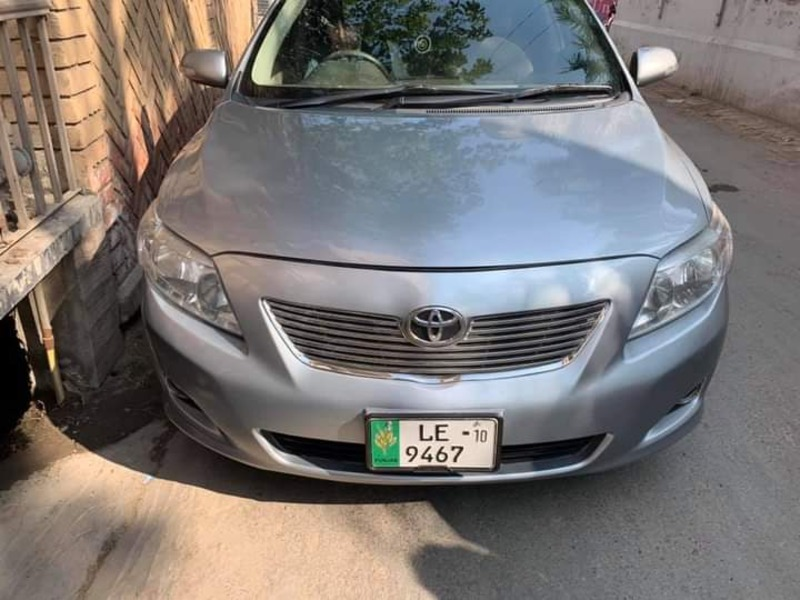License Plate: (361, 407, 505, 480)
